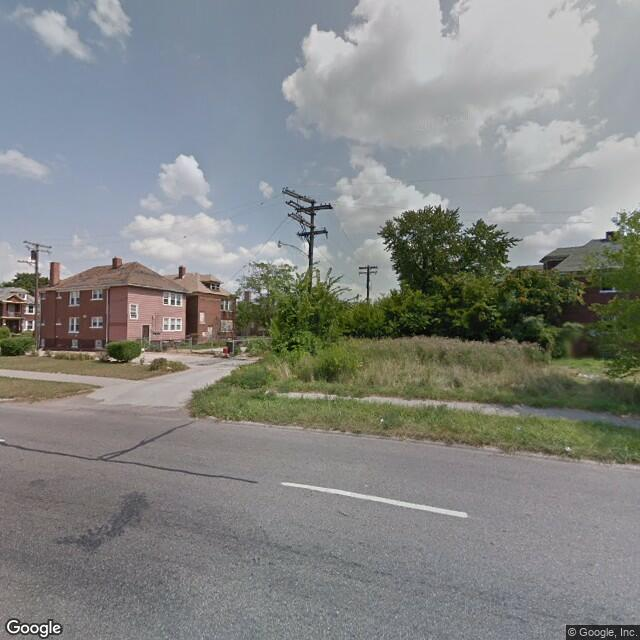litter: (377, 415, 385, 427), (563, 444, 573, 453)
